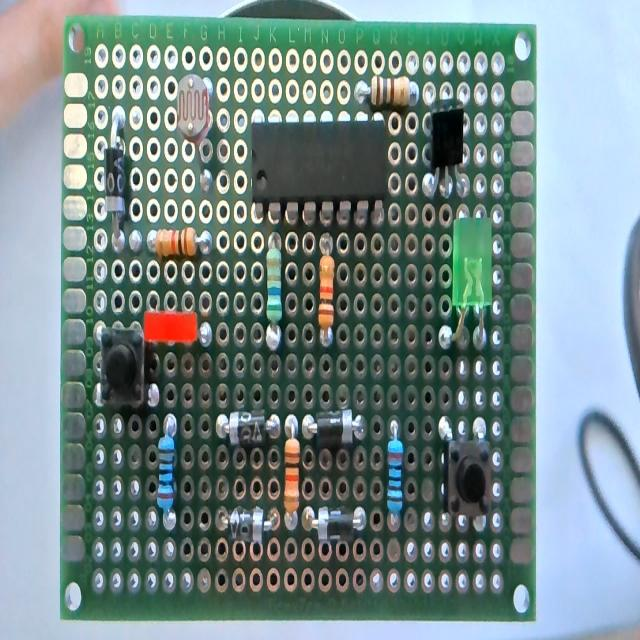IC: (250, 119, 390, 208)
cds: (175, 73, 212, 191)
diode: (107, 109, 127, 246), (305, 410, 364, 452), (304, 505, 366, 544), (222, 506, 276, 546), (215, 410, 278, 444)
led: (449, 217, 492, 352), (143, 308, 198, 344)
resistor: (265, 239, 283, 350), (150, 228, 210, 260), (157, 417, 176, 518), (357, 76, 416, 108), (283, 418, 300, 520), (387, 421, 404, 517), (318, 251, 335, 345)
switch: (437, 418, 491, 524), (96, 324, 158, 410)
transistor: (422, 97, 466, 202)
